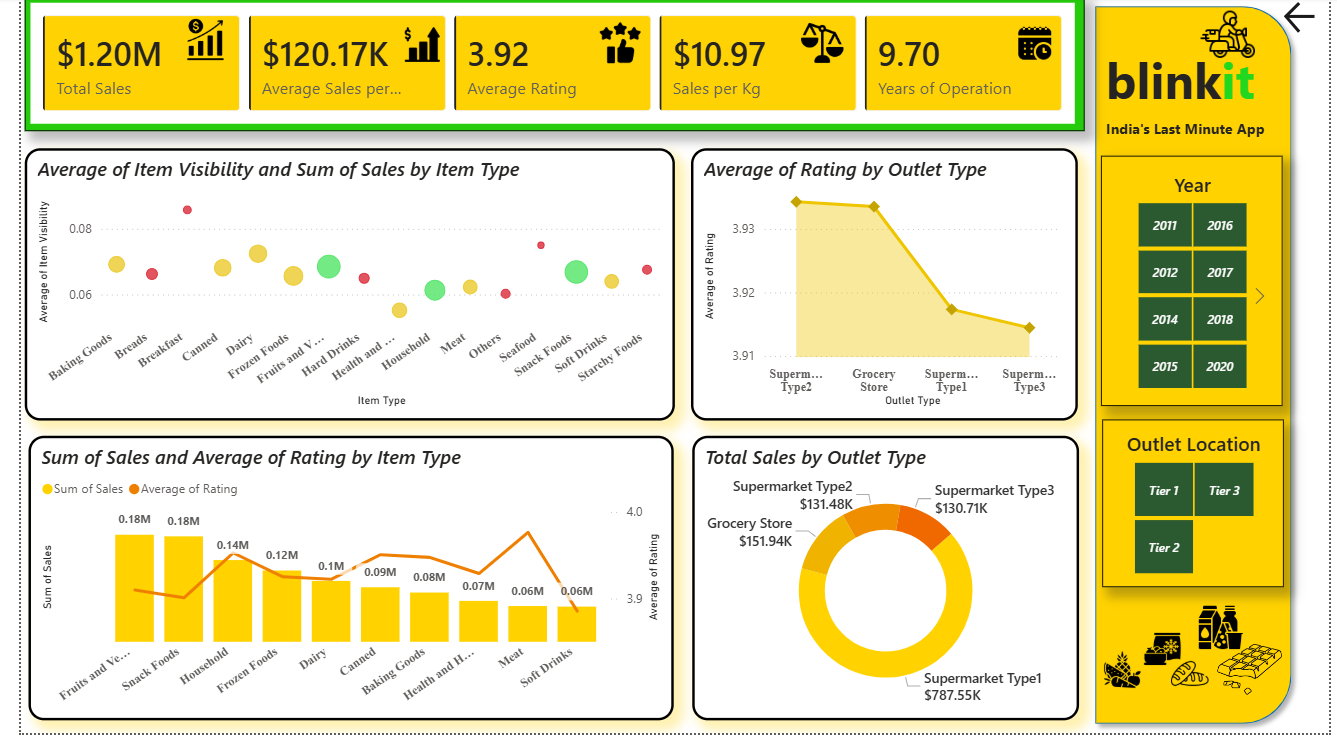

Layout of this report page (visuals, bound fields, positions):
{"tool":"powerbi","page":{"name":"Performance & Operations","canvas":[1280,720],"ordinal":1},"visuals":[{"type":"shape","box":[1041.2,0,210,720],"z":0},{"type":"textbox","box":[1056.2,42.5,177.5,80],"z":1000},{"type":"textbox","box":[1056.5,113.7,177.3,34.2],"z":2000},{"type":"cardVisual","fields":{"Data":["BlinkIT Grocery Data.Total Sales","BlinkIT Grocery Data.Average Sales per Outlet","BlinkIT Grocery Data.Average Rating","BlinkIT Grocery Data.Sales per Kg","BlinkIT Grocery Data.Years of Oper"]},"box":[3.7,0,1037,130.8],"z":3000},{"type":"image","box":[151.6,20.8,57.5,41.6],"z":4000},{"type":"image","box":[374.2,26.9,36.7,39.1],"z":5000},{"type":"image","box":[566.2,20.8,40.4,47.7],"z":6000},{"type":"image","box":[763,23.2,41.6,42.8],"z":7000},{"type":"image","box":[974.6,18.3,34.2,53.8],"z":8000},{"type":"slicer","title":"Year","fields":{"Values":["BlinkIT Grocery Data.Outlet Establishment Year"]},"box":[1056.2,155,177.5,245],"z":9000},{"type":"image","box":[1146.2,10,70,56.2],"z":10000},{"type":"image","box":[1056.5,638.3,41.6,39.1],"z":11000},{"type":"image","box":[1170.3,629.8,63.6,56.3],"z":12000},{"type":"image","box":[1098.1,607.7,36.7,59.9],"z":13000},{"type":"image","box":[1145.8,595.5,56.3,42.8],"z":14000},{"type":"image","box":[1125,629.8,36.7,63.6],"z":15000},{"type":"scatterChart","fields":{"Size":["Sum(BlinkIT Grocery Data.Sales)"],"Y":["Avg(BlinkIT Grocery Data.Item Visibility)"],"X":["BlinkIT Grocery Data.Item Type"]},"box":[3.8,147.5,636.2,266.2],"z":16000},{"type":"lineStackedColumnComboChart","fields":{"Category":["BlinkIT Grocery Data.Item Type"],"Y":["Sum(BlinkIT Grocery Data.Sales)"],"Y2":["Avg(BlinkIT Grocery Data.Rating)"]},"box":[7.5,428.8,631.2,278.8],"z":17000},{"type":"lineChart","fields":{"Y":["Avg(BlinkIT Grocery Data.Rating)"],"Category":["BlinkIT Grocery Data.Outlet Type"]},"box":[655,147.5,378.8,266.2],"z":18000},{"type":"slicer","title":"Outlet Location","fields":{"Values":["BlinkIT Grocery Data.Outlet Location Type"]},"box":[1057.5,413.8,177.5,163.8],"z":19000},{"type":"donutChart","fields":{"Category":["BlinkIT Grocery Data.Outlet Type"],"Y":["BlinkIT Grocery Data.Total Sales"]},"box":[656.2,428.8,378.8,278.8],"z":20000},{"type":"actionButton","box":[1231.2,0,48.8,40],"z":21000}]}

Visuals, with their boxes in screenshot pixels (x1, y1, x2, y2), scaled from the page's 1280x720 canvas onto the 1337x737 screenshot:
shape: 1088, 0, 1307, 736
textbox: 1103, 44, 1289, 125
textbox: 1104, 116, 1289, 151
cardVisual - BlinkIT Grocery Data.Total Sales x BlinkIT Grocery Data.Average Sales per Outlet: 4, 0, 1087, 134
image: 158, 21, 218, 64
image: 391, 28, 429, 68
image: 591, 21, 634, 70
image: 797, 24, 840, 68
image: 1018, 19, 1054, 74
"Year" slicer: 1103, 159, 1289, 409
image: 1197, 10, 1270, 68
image: 1104, 653, 1147, 693
image: 1222, 645, 1289, 702
image: 1147, 622, 1185, 683
image: 1197, 610, 1256, 653
image: 1175, 645, 1213, 710
scatterChart - Sum(BlinkIT Grocery Data.Sales) x Avg(BlinkIT Grocery Data.Item Visibility): 4, 151, 668, 423
lineStackedColumnComboChart - BlinkIT Grocery Data.Item Type x Sum(BlinkIT Grocery Data.Sales): 8, 439, 667, 724
lineChart - Avg(BlinkIT Grocery Data.Rating) x BlinkIT Grocery Data.Outlet Type: 684, 151, 1080, 423
"Outlet Location" slicer: 1105, 424, 1290, 591
donutChart - BlinkIT Grocery Data.Outlet Type x BlinkIT Grocery Data.Total Sales: 685, 439, 1081, 724
actionButton: 1286, 0, 1336, 41
